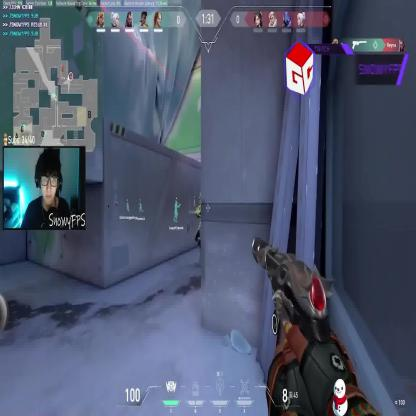enemy: (195, 192, 213, 261)
enemy_head: (199, 194, 206, 206)
